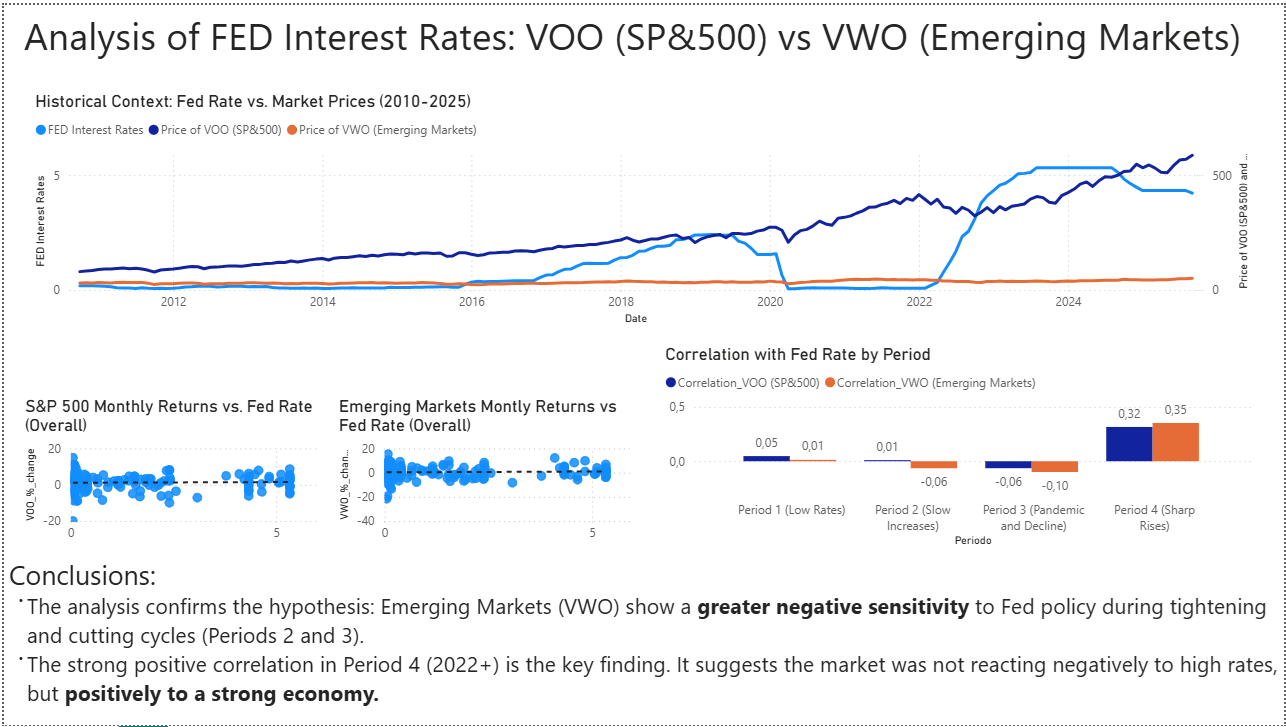

Layout of this report page (visuals, bound fields, positions):
{"tool":"powerbi","page":{"name":"Page 1","canvas":[1280,720],"ordinal":0},"visuals":[{"type":"clusteredColumnChart","title":"Correlation with Fed Rate by Period","fields":{"Category":["fed_market_correlations.Periodo"],"Y":["Sum(fed_market_correlations.Correlacion_VOO)","Sum(fed_market_correlations.Correlacion_VWO)"]},"box":[656.2,338.8,596.2,207.5],"z":0},{"type":"textbox","box":[15,0,1265,105],"z":1000},{"type":"lineChart","title":"Historical Context: Fed Rate vs. Market Prices (2010-2025)","fields":{"Y":["Avg(fed_market_timeseries.value)"],"Y2":["Avg(fed_market_timeseries.VOO)","Avg(fed_market_timeseries.VWO)"],"Category":["fed_market_timeseries.Date"]},"box":[26.2,86.2,1225,238.8],"z":2000},{"type":"scatterChart","title":"S&P 500 Monthly Returns vs. Fed Rate (Overall)","fields":{"X":["fed_market_timeseries.value"],"Y":["fed_market_timeseries.VOO_%_change"]},"box":[16,391.2,306.2,155],"z":3000},{"type":"scatterChart","title":"Emerging Markets Montly Returns vs Fed Rate (Overall)","fields":{"X":["fed_market_timeseries.value"],"Y":["fed_market_timeseries.VWO_%_change"]},"box":[330,391.2,308.8,155],"z":4000},{"type":"textbox","box":[0,546.2,1280,173.8],"z":5000}]}

Visuals, with their boxes in screenshot pixels (x1, y1, x2, y2), scaled from the page's 1280x720 canvas onto the 1286x727 screenshot:
"Correlation with Fed Rate by Period" clusteredColumnChart: [left=659, top=342, right=1258, bottom=552]
textbox: [left=15, top=0, right=1285, bottom=106]
"Historical Context: Fed Rate vs. Market Prices (2010-2025)" lineChart: [left=26, top=87, right=1257, bottom=328]
"S&P 500 Monthly Returns vs. Fed Rate (Overall)" scatterChart: [left=16, top=395, right=324, bottom=552]
"Emerging Markets Montly Returns vs Fed Rate (Overall)" scatterChart: [left=332, top=395, right=642, bottom=552]
textbox: [left=0, top=552, right=1285, bottom=726]
